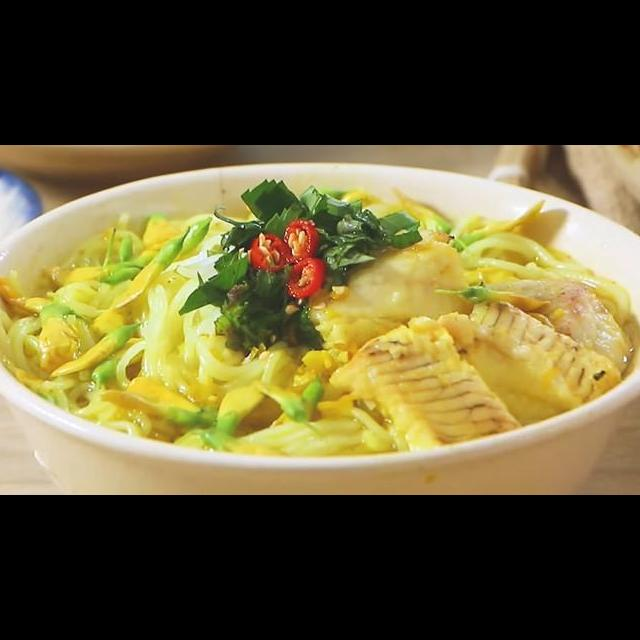bun: (92, 209, 226, 438), (0, 300, 179, 445), (448, 218, 638, 325)
bun ca: (0, 173, 640, 495)
ca: (318, 309, 534, 457), (458, 294, 626, 413)
rau ram: (174, 178, 424, 355)
